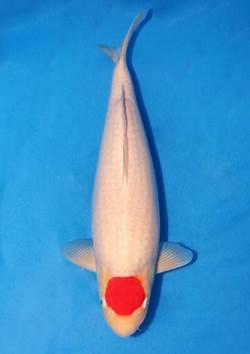sun: (59, 8, 195, 339)
